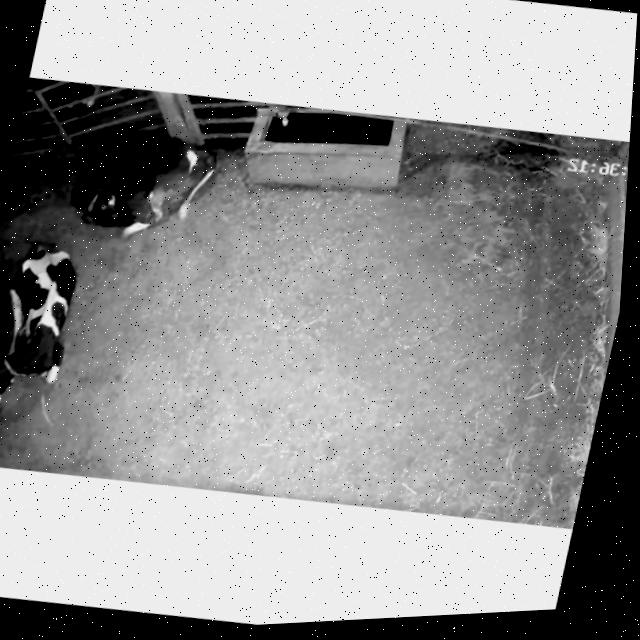lay: (42, 111, 232, 261), (0, 222, 99, 427)
